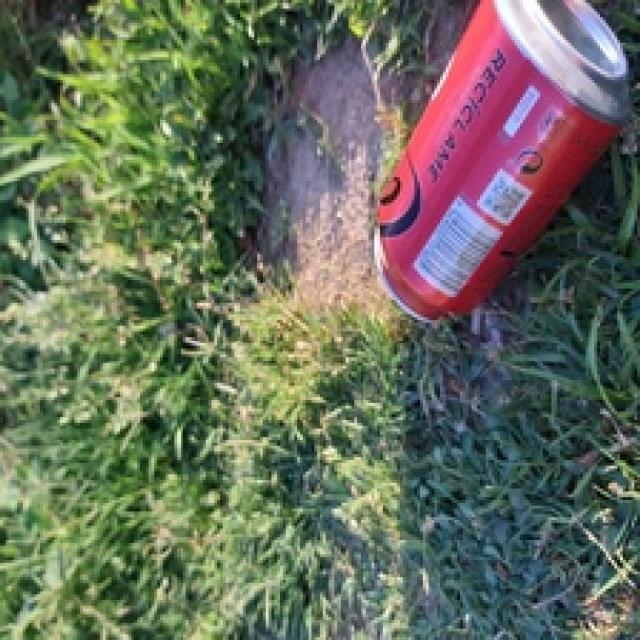recyclable: (374, 0, 628, 327)
